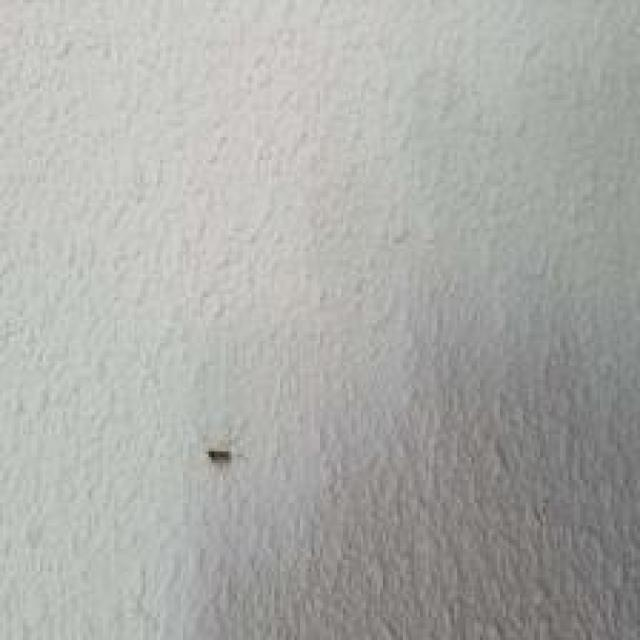Culex: (206, 450, 231, 461)
